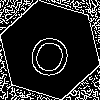O: (25, 25, 77, 80)
